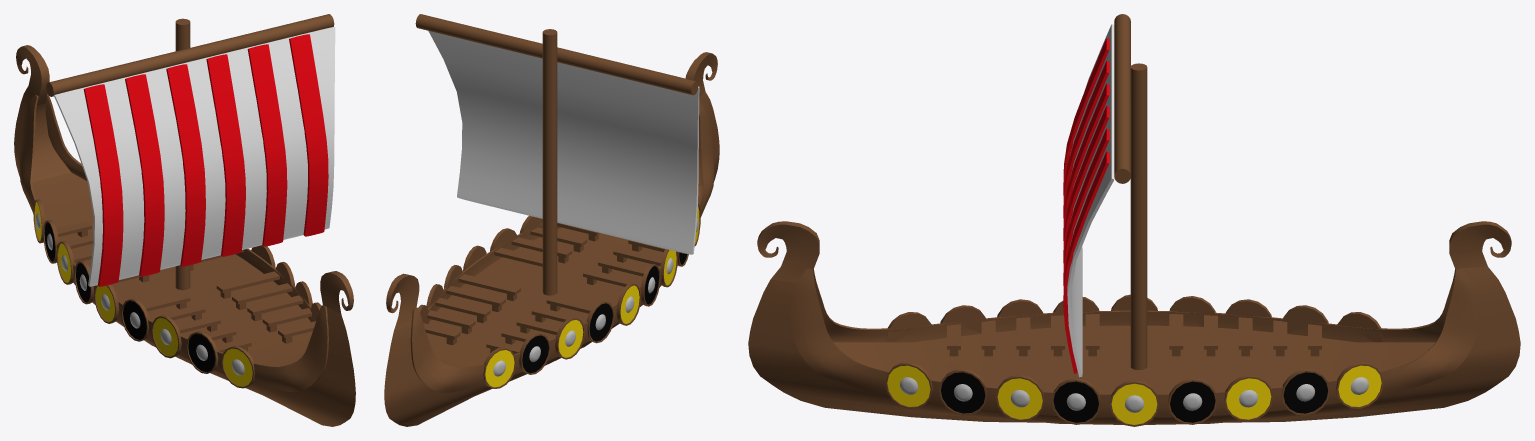
The model's file is VikingShip.fbx.
3 renders of one model, left to right at view 1: azimuth 30°, elevation 25°; view 2: azimuth 150°, elevation 25°; view 3: azimuth 270°, elevation 25°, orthographic. The views are drawn at different scales.
Parts seen in each view (by area): view 1: Sail.001, Boat ends - Swirl.001, Shield 1.001, Cube.002, Mast.001; view 2: Sail.001, Boat ends - Swirl.001, Mast.001, Shield 1.001, Cube.002; view 3: Boat ends - Swirl.001, Shield 1.001, Sail.001, Mast.001, Cube.002.
Boxes of the visible parts, x1,y1,x2,y2 form: Sail.001: [53, 27, 335, 286]; Boat ends - Swirl.001: [14, 45, 355, 426]; Shield 1.001: [33, 199, 320, 388]; Cube.002: [56, 221, 315, 352]; Mast.001: [46, 14, 334, 290]; Sail.001: [428, 31, 699, 254]; Boat ends - Swirl.001: [384, 52, 719, 426]; Mast.001: [415, 14, 698, 295]; Shield 1.001: [418, 204, 700, 388]; Cube.002: [423, 222, 664, 354]; Boat ends - Swirl.001: [748, 221, 1520, 424]; Shield 1.001: [885, 294, 1383, 426]; Sail.001: [1063, 24, 1114, 377]; Mast.001: [1114, 14, 1147, 369]; Cube.002: [947, 314, 1321, 393].
Bounding box in the file's own units: 460 × 494 × 972.
